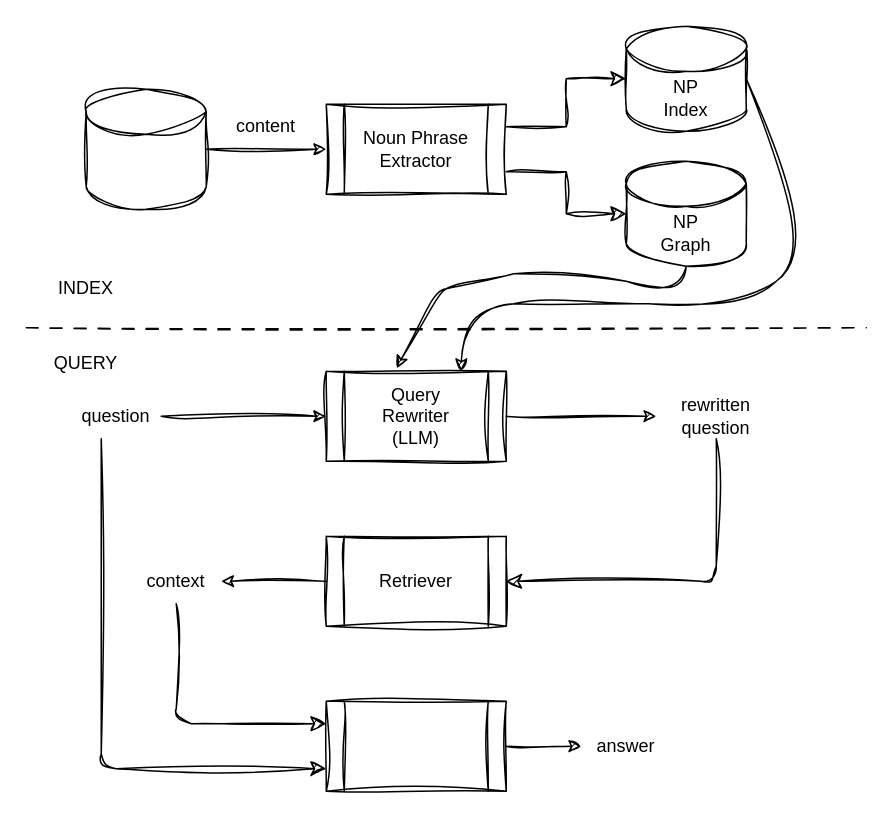
The diagram is 894 pixels wide and 818 high, and some of its shapes have lost their labels. Each missing label, with the centre of its shape:
Answer Generator (LLM): the point at 415,745
corpus: the point at 145,148
